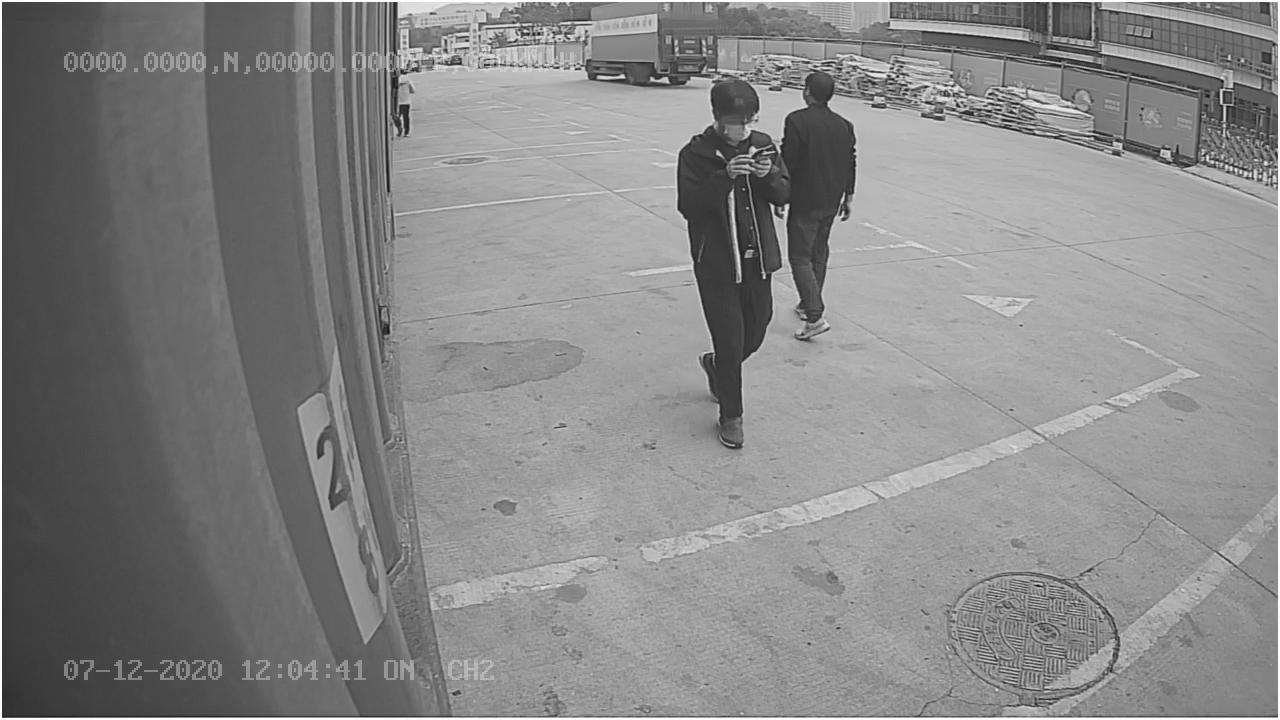person: (670, 78, 791, 448)
